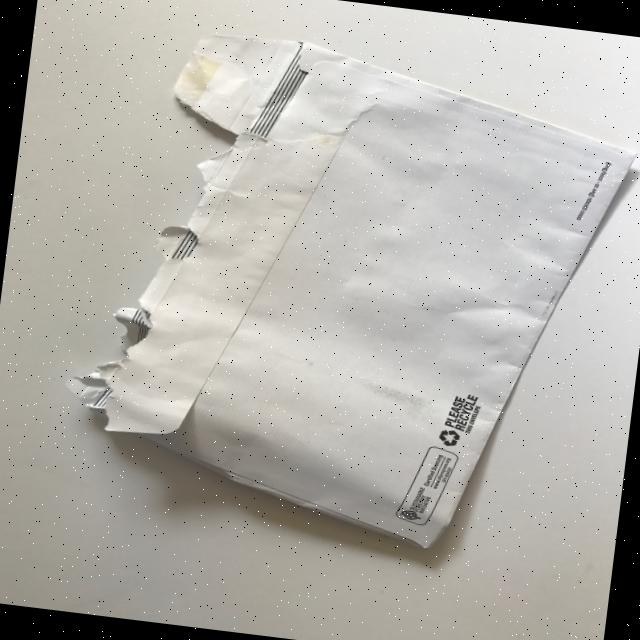paper: (50, 16, 640, 569)
